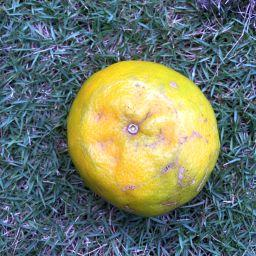Ripe: (69, 60, 217, 209)
